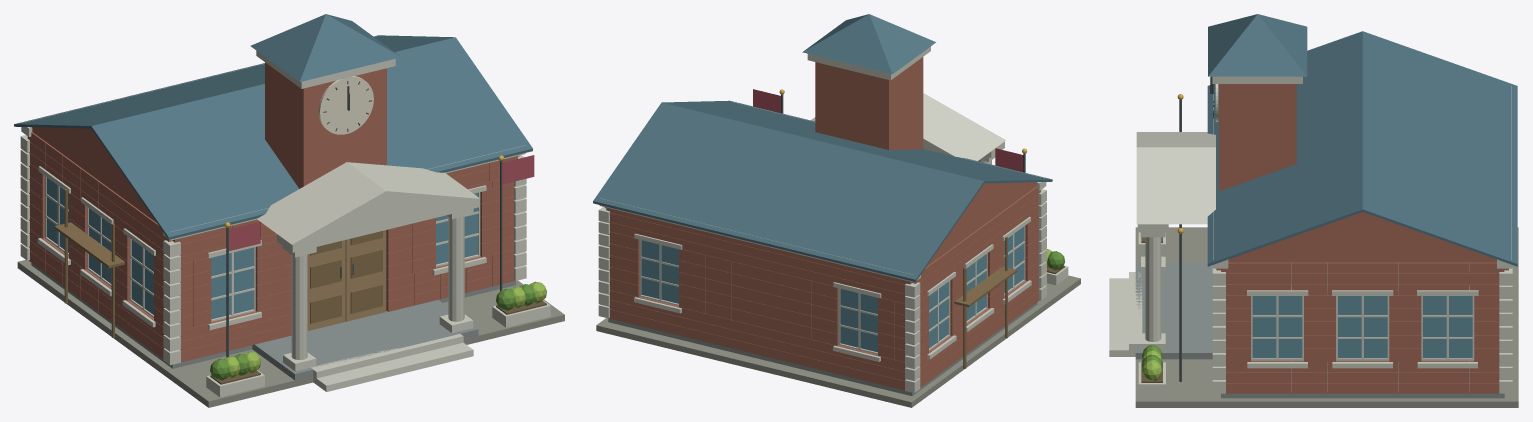
File: town-hall.glb
3 views of the same model, side by side, from view 1: azimuth 30°, elevation 25°; view 2: azimuth 150°, elevation 25°; view 3: azimuth 270°, elevation 25° (orthographic). The views are drawn at different scales.
Parts seen in each view (by area): view 1: ClockTower_mesh, Foundation_mesh, Windows_mesh, Pediment_mesh, FrontWall.001_mesh, RoofCourse.005_mesh, RoofCourse.004_mesh, FrontWall_mesh, RoofCourse.001_mesh, Portico_mesh, RoofCourse_mesh, FacadeTrim_mesh (+18 smaller); view 2: ClockTower_mesh, RearWall.001_mesh, Windows_mesh, RearWall_mesh, RoofCourse.001_mesh, Foundation_mesh, RoofCourse_mesh, RoofCourse.004_mesh, RoofCourse.005_mesh, RearWall.002_mesh, FacadeTrim_mesh, RoofCourse.002_mesh (+12 smaller); view 3: Foundation_mesh, ClockTower_mesh, Windows_mesh, RoofCourse.001_mesh, RoofCourse_mesh, SideWall.005_mesh, SideWall.003_mesh, SideWall.004_mesh, Gables_mesh, Pediment_mesh, RoofCourse.004_mesh, RoofCourse.005_mesh (+9 smaller).
Part boxes in pixels (x1=…): ClockTower_mesh: x1=250, y1=14, x2=401, y2=188; Foundation_mesh: x1=17, y1=260, x2=564, y2=407; Windows_mesh: x1=37, y1=166, x2=486, y2=330; Pediment_mesh: x1=256, y1=162, x2=480, y2=244; FrontWall.001_mesh: x1=180, y1=183, x2=514, y2=330; RoofCourse.005_mesh: x1=26, y1=35, x2=520, y2=221; RoofCourse.004_mesh: x1=39, y1=36, x2=507, y2=202; FrontWall_mesh: x1=180, y1=249, x2=514, y2=362; RoofCourse.001_mesh: x1=65, y1=36, x2=481, y2=165; Portico_mesh: x1=277, y1=199, x2=479, y2=371; RoofCourse_mesh: x1=78, y1=37, x2=468, y2=146; FacadeTrim_mesh: x1=20, y1=36, x2=526, y2=365; ClockTower_mesh: x1=802, y1=14, x2=935, y2=149; RearWall.001_mesh: x1=609, y1=232, x2=905, y2=362; Windows_mesh: x1=634, y1=216, x2=1031, y2=361; RearWall_mesh: x1=609, y1=290, x2=905, y2=390; RoofCourse.001_mesh: x1=639, y1=102, x2=1007, y2=215; Foundation_mesh: x1=596, y1=275, x2=1080, y2=407; RoofCourse_mesh: x1=650, y1=102, x2=995, y2=199; RoofCourse.004_mesh: x1=616, y1=101, x2=1030, y2=248; RoofCourse.005_mesh: x1=604, y1=101, x2=1041, y2=265; RearWall.002_mesh: x1=606, y1=207, x2=912, y2=303; FacadeTrim_mesh: x1=598, y1=101, x2=1046, y2=392; RoofCourse.002_mesh: x1=632, y1=101, x2=1013, y2=224; Foundation_mesh: x1=1135, y1=227, x2=1518, y2=407; ClockTower_mesh: x1=1208, y1=14, x2=1307, y2=191; Windows_mesh: x1=1247, y1=286, x2=1478, y2=368; RoofCourse.001_mesh: x1=1310, y1=40, x2=1414, y2=230; RoofCourse_mesh: x1=1336, y1=31, x2=1388, y2=220; SideWall.005_mesh: x1=1221, y1=262, x2=1504, y2=294; SideWall.003_mesh: x1=1226, y1=360, x2=1499, y2=393; SideWall.004_mesh: x1=1226, y1=292, x2=1499, y2=361; Gables_mesh: x1=1228, y1=212, x2=1496, y2=262; Pediment_mesh: x1=1136, y1=132, x2=1215, y2=224; RoofCourse.004_mesh: x1=1258, y1=59, x2=1466, y2=248; RoofCourse.005_mesh: x1=1232, y1=68, x2=1492, y2=257.
Bounding box in the file's own units: 9.16 × 7.16 × 8.66.
